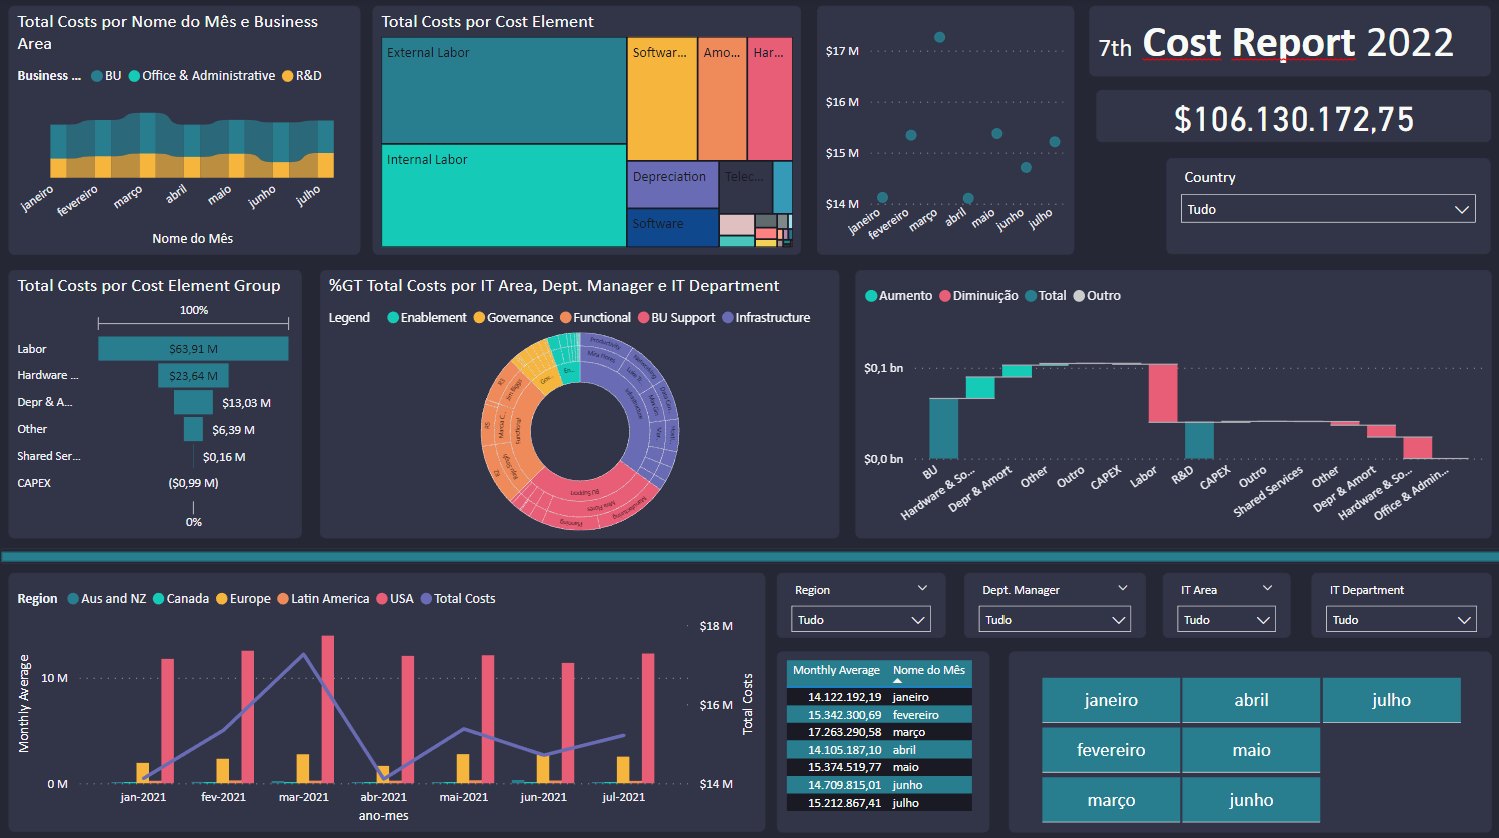

The page's visual inventory and layout, read from the dashboard file:
{"tool":"powerbi","page":{"name":"Página 1","canvas":[1280,720],"ordinal":0},"visuals":[{"type":"lineClusteredColumnComboChart","fields":{"Y":["_med.Monthly Average"],"Category":["Calendar.Intercalado"],"Y2":["_med.Total Costs"],"Series":["Regions.Region"]},"box":[9.2,489.5,642.6,219.9],"z":0},{"type":"tableEx","fields":{"Values":["_med.Monthly Average","Calendar.Nome do Mês"]},"box":[660.9,555.6,180.6,153.8],"z":1000},{"type":"textbox","box":[926.6,7.2,340.9,60.2],"z":2000},{"type":"funnel","fields":{"Category":["CostElements.Cost Element Group"],"Y":["_med.Total Costs"]},"box":[9.2,231.7,249.3,227.7],"z":3000},{"type":"shape","box":[0,467.9,1280,13.1],"z":4000},{"type":"card","fields":{"Values":["_med.Total Costs"]},"box":[931.9,79.2,335.7,44.5],"z":5000},{"type":"Sunburst1445472000808","fields":{"Values":["_med.Total Costs"],"Nodes":["Departments.IT Area","Departments.Dept. Manager","Departments.IT Department"]},"box":[272.9,231.7,441.1,227.7],"z":6000},{"type":"slicer","fields":{"Values":["Departments.IT Department"]},"box":[1114.4,489.5,153.1,55.6],"z":7000},{"type":"slicer","fields":{"Values":["Departments.IT Area"]},"box":[988.8,489.5,108.6,55.6],"z":8000},{"type":"slicer","fields":{"Values":["Departments.Dept. Manager"]},"box":[820,489.5,153.8,55.6],"z":9000},{"type":"slicer","fields":{"Values":["Regions.Region"]},"box":[660.9,489.5,143.3,55.6],"z":10000},{"type":"slicer","fields":{"Values":["Calendar.Nome do Mês"]},"box":[857.3,555.6,410.3,153.8],"z":11000},{"type":"scatterChart","fields":{"Y":["_med.Total Costs"],"X":["Calendar.Nome do Mês"]},"box":[695,7.2,217.9,211.4],"z":12000},{"type":"treemap","fields":{"Values":["_med.Total Costs"],"Group":["CostElements.Cost Element"]},"box":[318.7,7.2,363.8,211.4],"z":13000},{"type":"ribbonChart","fields":{"Category":["Calendar.Nome do Mês"],"Y":["_med.Total Costs"],"Series":["CostElements.Business Area"]},"box":[9.2,7.2,299.1,211.4],"z":14000},{"type":"waterfallChart","fields":{"Y":["_med.Total Costs"],"Category":["CostElements.Business Area"],"Breakdown":["CostElements.Cost Element Group"]},"box":[728.3,231.7,539.2,227.7],"z":15000},{"type":"slicer","fields":{"Values":["Regions.Country"]},"box":[992.1,136.8,275.5,81.8],"z":16000}]}

Visuals, with their boxes in screenshot pixels (x1, y1, x2, y2), scaled from the page's 1280x720 canvas onto the 1499x838 screenshot:
lineClusteredColumnComboChart - _med.Monthly Average x Calendar.Intercalado: detection(11, 570, 763, 826)
tableEx - _med.Monthly Average x Calendar.Nome do Mês: detection(774, 647, 985, 826)
textbox: detection(1085, 8, 1484, 78)
funnel - CostElements.Cost Element Group x _med.Total Costs: detection(11, 270, 303, 535)
shape: detection(0, 545, 1498, 560)
card - _med.Total Costs: detection(1091, 92, 1484, 144)
Sunburst1445472000808 - _med.Total Costs x Departments.IT Area: detection(320, 270, 836, 535)
slicer - Departments.IT Department: detection(1305, 570, 1484, 634)
slicer - Departments.IT Area: detection(1158, 570, 1285, 634)
slicer - Departments.Dept. Manager: detection(960, 570, 1140, 634)
slicer - Regions.Region: detection(774, 570, 942, 634)
slicer - Calendar.Nome do Mês: detection(1004, 647, 1484, 826)
scatterChart - _med.Total Costs x Calendar.Nome do Mês: detection(814, 8, 1069, 254)
treemap - _med.Total Costs x CostElements.Cost Element: detection(373, 8, 799, 254)
ribbonChart - Calendar.Nome do Mês x _med.Total Costs: detection(11, 8, 361, 254)
waterfallChart - _med.Total Costs x CostElements.Business Area: detection(853, 270, 1484, 535)
slicer - Regions.Country: detection(1162, 159, 1484, 254)
